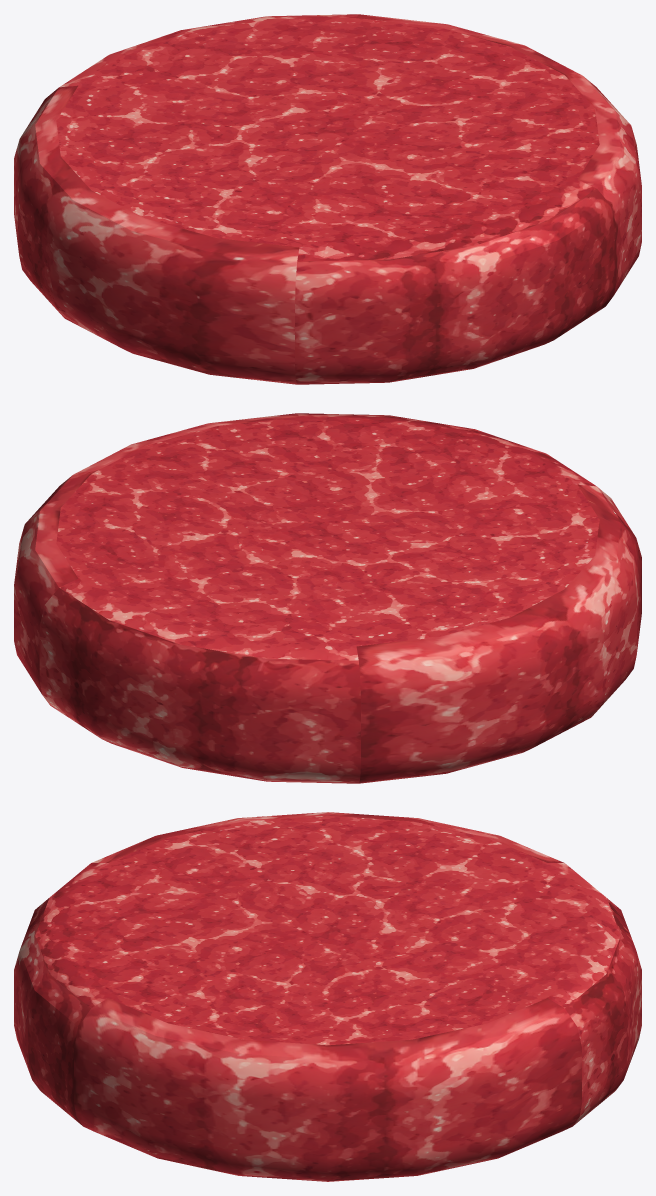
File: Carne_Cruda.fbx
3 views of the same model, one above another, from view 1: azimuth 30°, elevation 25°; view 2: azimuth 150°, elevation 25°; view 3: azimuth 270°, elevation 25° (orthographic).
Parts seen in each view (by area): view 1: Carne_Cruda; view 2: Carne_Cruda; view 3: Carne_Cruda.
Part boxes in pixels (box(x1,y1,x2,y2)): Carne_Cruda: box(14, 14, 641, 384); Carne_Cruda: box(14, 413, 641, 783); Carne_Cruda: box(14, 812, 641, 1181).
Bounding box in the file's own units: 1.59 × 0.3693 × 1.59.
1 material, 1 textured.
